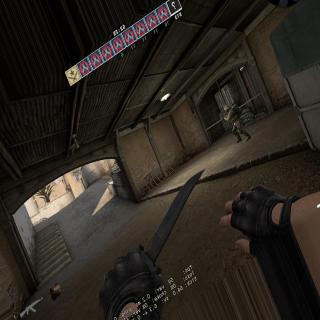CT-Body: (224, 102, 251, 140)
CT-Head: (224, 105, 230, 112)
